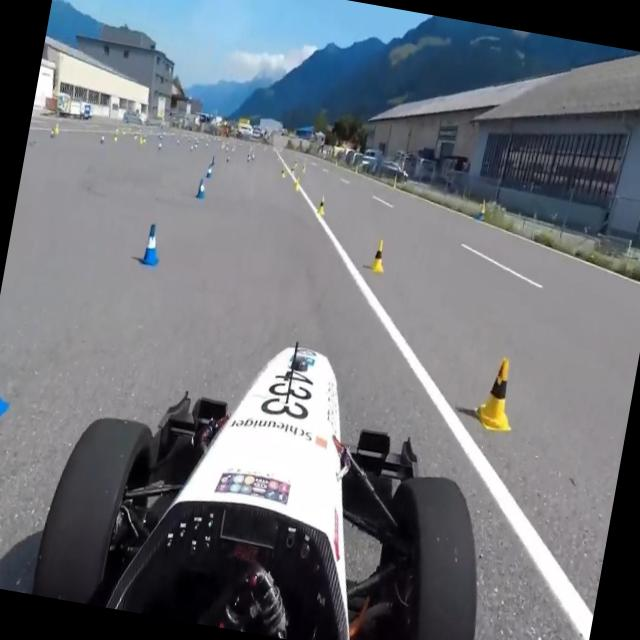Cono de seguridad: (472, 350, 524, 437), (0, 322, 26, 444), (138, 218, 166, 268), (368, 232, 390, 274), (194, 175, 208, 201), (314, 192, 328, 218), (476, 198, 487, 220), (292, 174, 302, 192), (205, 163, 214, 178), (53, 121, 61, 135), (98, 132, 105, 146), (392, 173, 398, 189), (280, 164, 286, 180), (300, 160, 306, 173), (50, 128, 56, 140), (156, 141, 162, 153), (250, 150, 256, 161), (354, 163, 359, 175), (224, 153, 230, 163), (141, 132, 146, 144), (138, 136, 144, 146), (246, 152, 251, 163), (290, 164, 294, 177), (188, 144, 193, 154), (113, 132, 117, 142), (333, 158, 337, 166)
vehiculo: (28, 302, 521, 640)
